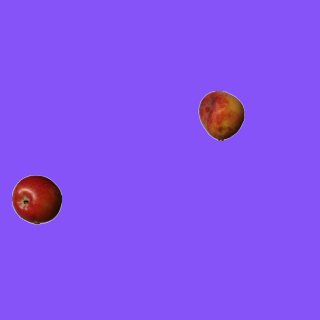Apple Braeburn: (11, 174, 61, 224)
Peach: (196, 90, 246, 140)
